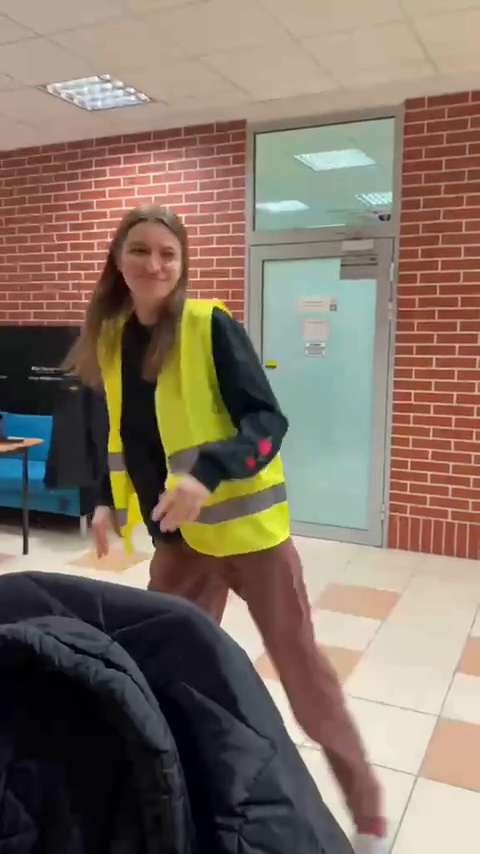vest: (95, 201, 323, 680)
